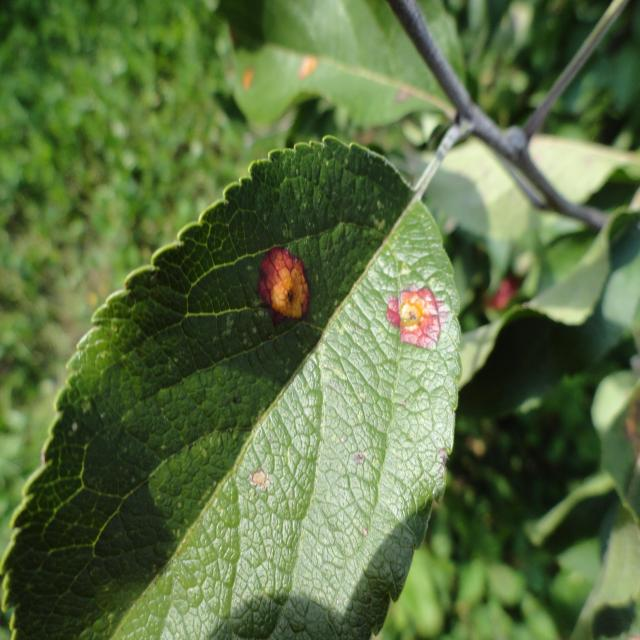Rust: (386, 263, 450, 360), (251, 242, 319, 326)
